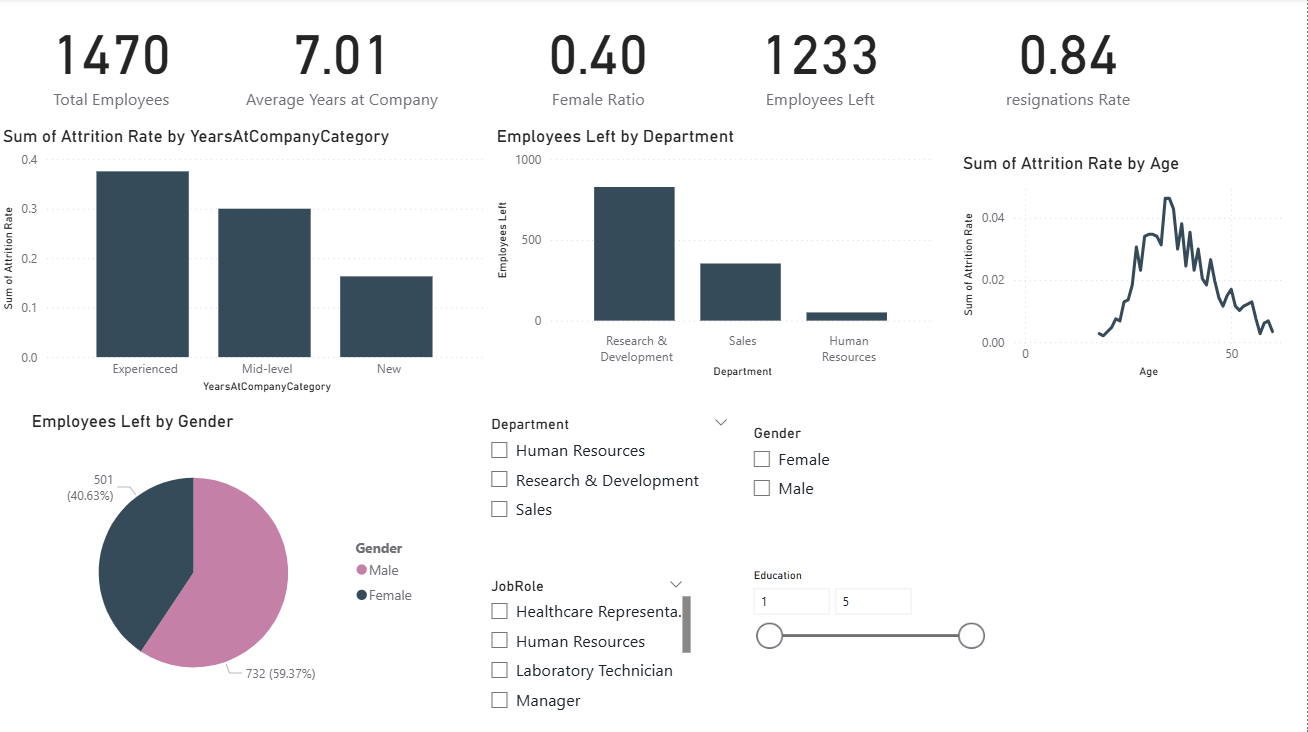

The page's visual inventory and layout, read from the dashboard file:
{"tool":"powerbi","page":{"name":"Page 1","canvas":[1280,720],"ordinal":0},"visuals":[{"type":"card","fields":{"Values":["hr.Total Employees"]},"box":[0,0,222.3,119.4],"z":0},{"type":"card","fields":{"Values":["hr.Employees Left"]},"box":[669.6,0,269,119.4],"z":1},{"type":"card","fields":{"Values":["hr.resignations Rate"]},"box":[908.4,0,277.2,119.4],"z":2},{"type":"card","fields":{"Values":["hr.Average Years at Company"]},"box":[204.5,0,264.8,119.4],"z":3},{"type":"card","fields":{"Values":["hr.Female Ratio"]},"box":[448.7,0,277.2,119.4],"z":4},{"type":"columnChart","fields":{"Category":["hr.Department"],"Y":["hr.Employees Left"]},"box":[483,124.7,437.8,251.9],"z":5},{"type":"pieChart","fields":{"Category":["hr.Gender"],"Y":["hr.Employees Left"]},"box":[28.1,403.5,392.5,298.4],"z":6},{"type":"columnChart","fields":{"Category":["hr.YearsAtCompanyCategory"],"Y":["Sum(hr.Attrition Rate)"]},"box":[0,124.7,483,266.6],"z":7},{"type":"lineChart","fields":{"Category":["hr.Age"],"Y":["Sum(hr.Attrition Rate)"]},"box":[939.1,151.6,322.8,225],"z":8},{"type":"slicer","fields":{"Values":["hr.Department"]},"box":[469.6,403.5,256.8,149.2],"z":9},{"type":"slicer","fields":{"Values":["hr.JobRole"]},"box":[469.6,561.3,212.8,149.2],"z":10},{"type":"slicer","fields":{"Values":["hr.Gender"]},"box":[726.4,412.1,245.8,149.2],"z":11},{"type":"slicer","fields":{"Values":["hr.Education"]},"box":[726.4,552.7,247,149.2],"z":12}]}

Visuals, with their boxes in screenshot pixels (x1, y1, x2, y2), scaled from the page's 1280x720 canvas onto the 1308x732 screenshot:
card - hr.Total Employees: detection(0, 0, 227, 121)
card - hr.Employees Left: detection(684, 0, 959, 121)
card - hr.resignations Rate: detection(928, 0, 1212, 121)
card - hr.Average Years at Company: detection(209, 0, 480, 121)
card - hr.Female Ratio: detection(459, 0, 742, 121)
columnChart - hr.Department x hr.Employees Left: detection(494, 127, 941, 383)
pieChart - hr.Gender x hr.Employees Left: detection(29, 410, 430, 714)
columnChart - hr.YearsAtCompanyCategory x Sum(hr.Attrition Rate): detection(0, 127, 494, 398)
lineChart - hr.Age x Sum(hr.Attrition Rate): detection(960, 154, 1290, 383)
slicer - hr.Department: detection(480, 410, 742, 562)
slicer - hr.JobRole: detection(480, 571, 697, 722)
slicer - hr.Gender: detection(742, 419, 993, 571)
slicer - hr.Education: detection(742, 562, 995, 714)
